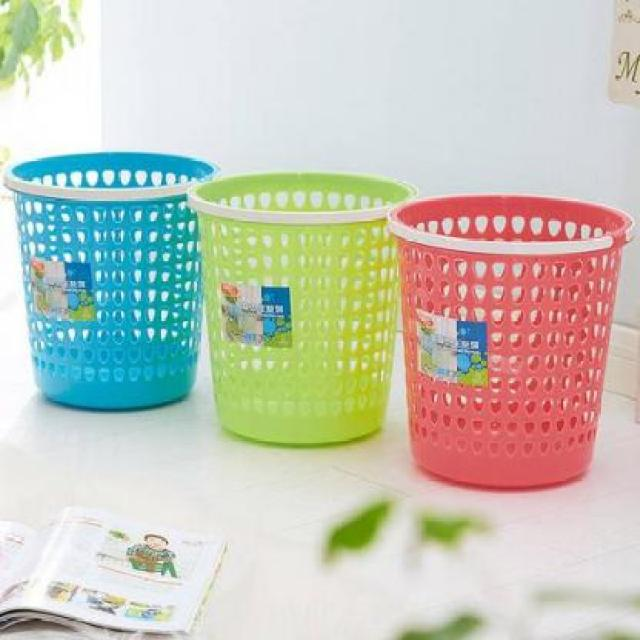dustbin: (385, 189, 639, 494), (184, 165, 424, 448), (1, 143, 222, 418)
